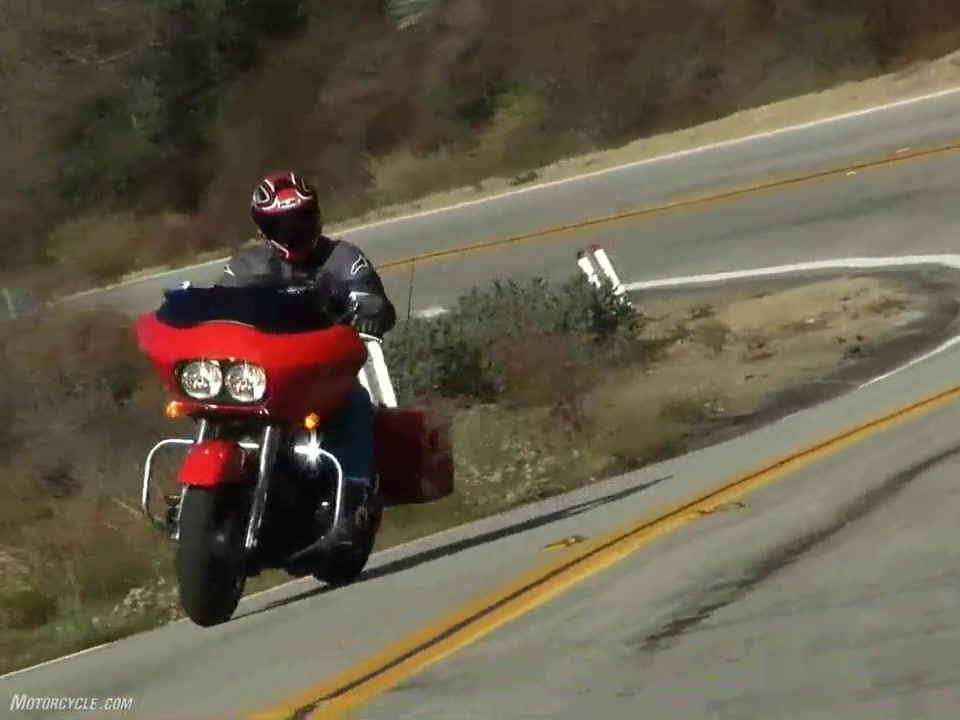motorbike: (135, 276, 456, 640)
